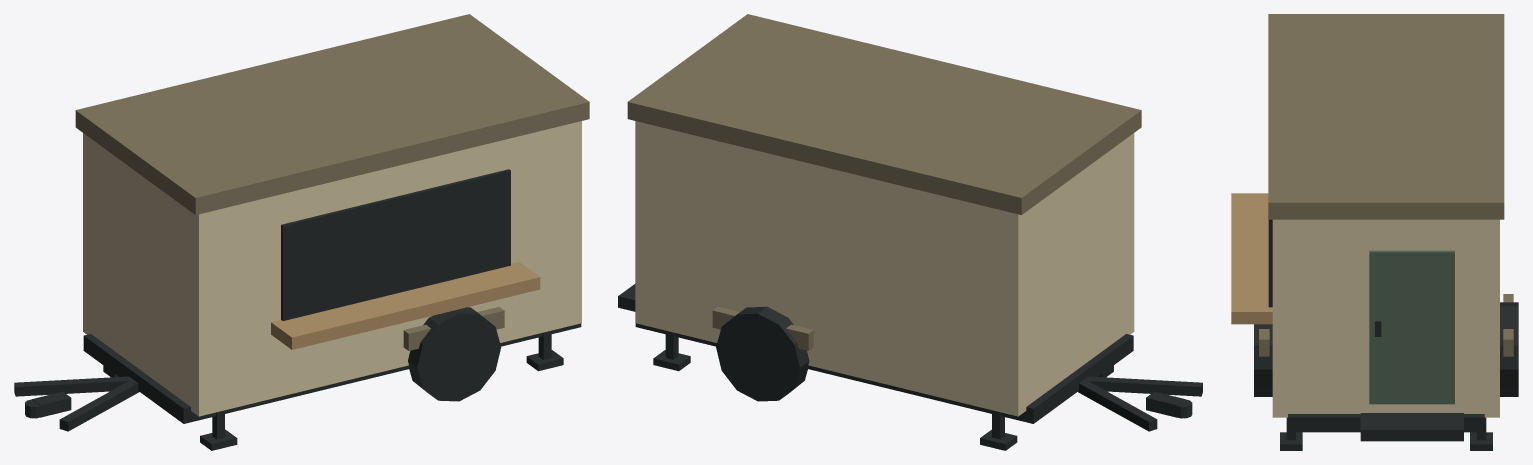
File: lwf_food_van_chassis_v1.glb
3 renders of one model, left to right at view 1: azimuth 30°, elevation 25°; view 2: azimuth 150°, elevation 25°; view 3: azimuth 270°, elevation 25°, orthographic.
Visible parts, largest first — view 1: lwf_food_van_chassis_v1; view 2: lwf_food_van_chassis_v1; view 3: lwf_food_van_chassis_v1.
Boxes of the visible parts, x1,y1,x2,y2 form: lwf_food_van_chassis_v1: (14, 14, 589, 450); lwf_food_van_chassis_v1: (618, 14, 1202, 450); lwf_food_van_chassis_v1: (1231, 14, 1518, 450).
Bounding box in the file's own units: 5.85 × 2.75 × 2.78.
1 material, 1 textured.
